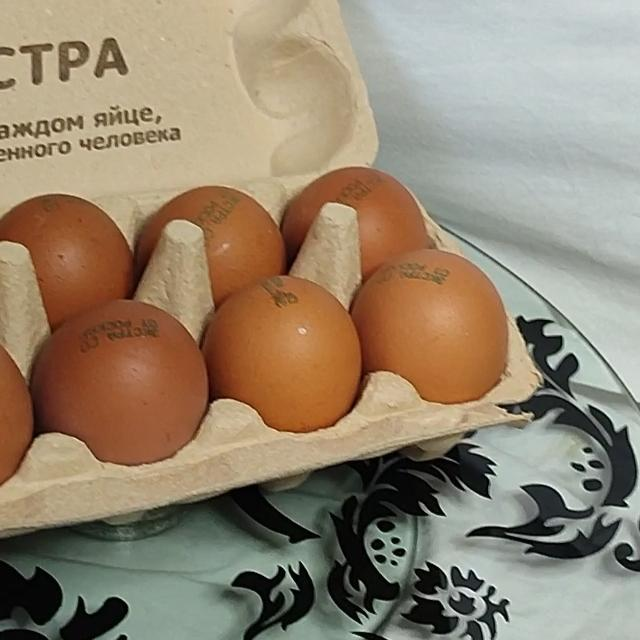egg: (0, 0, 531, 595)
